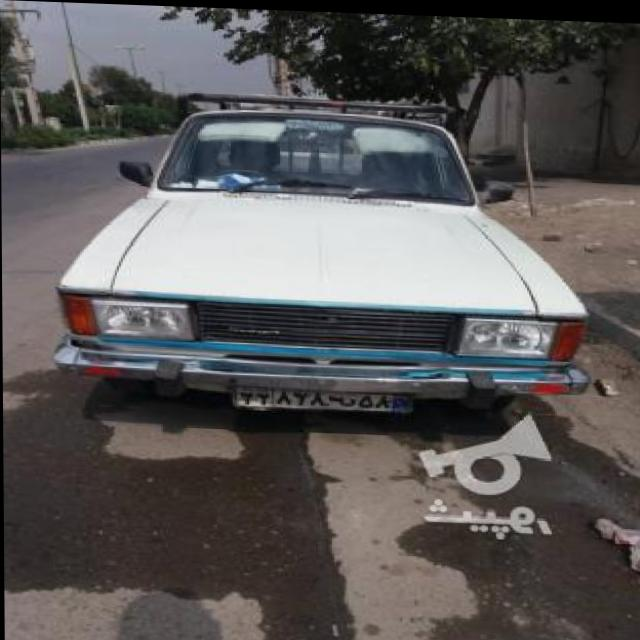licence: (234, 382, 415, 410)
